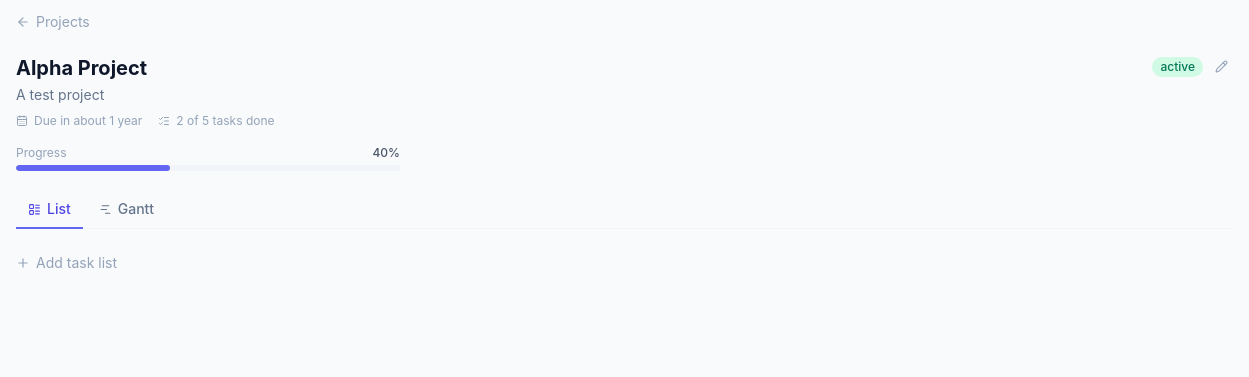
Test case: ProjectDetail › shows a name validation error when saving with an empty name
Click the button titled "Edit project".
click(1222, 66)  # box [1211,56,1232,77]
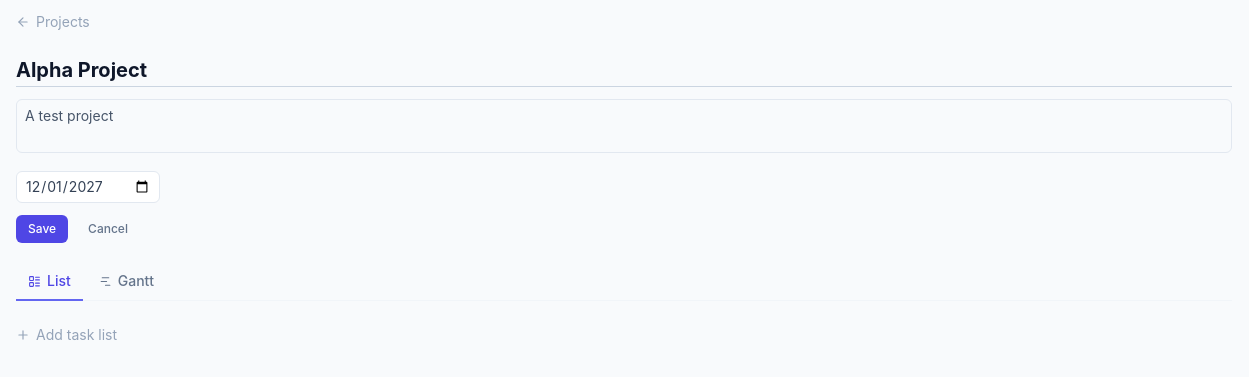
Clear the field showing "Alpha Project" at x=624, y=72, box [16,56,1232,87]
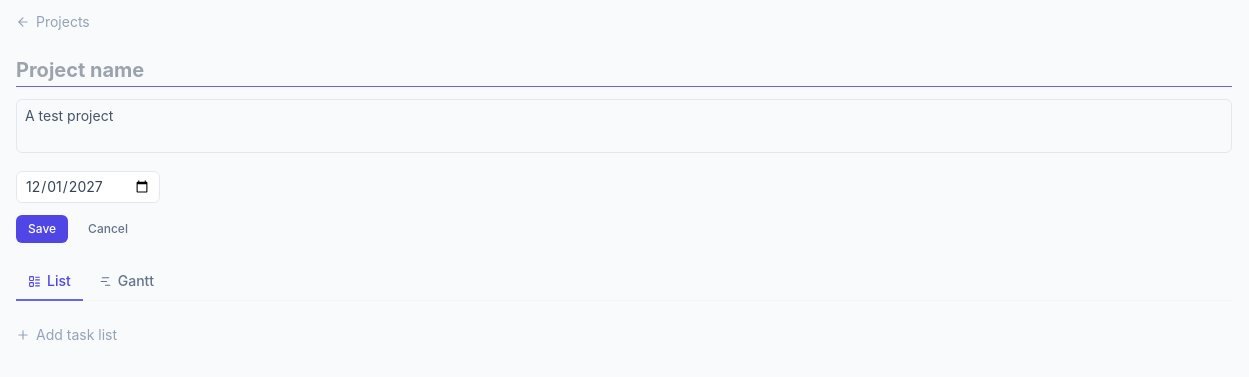
Click the button "Save".
click(42, 229)  # box [16,215,68,243]
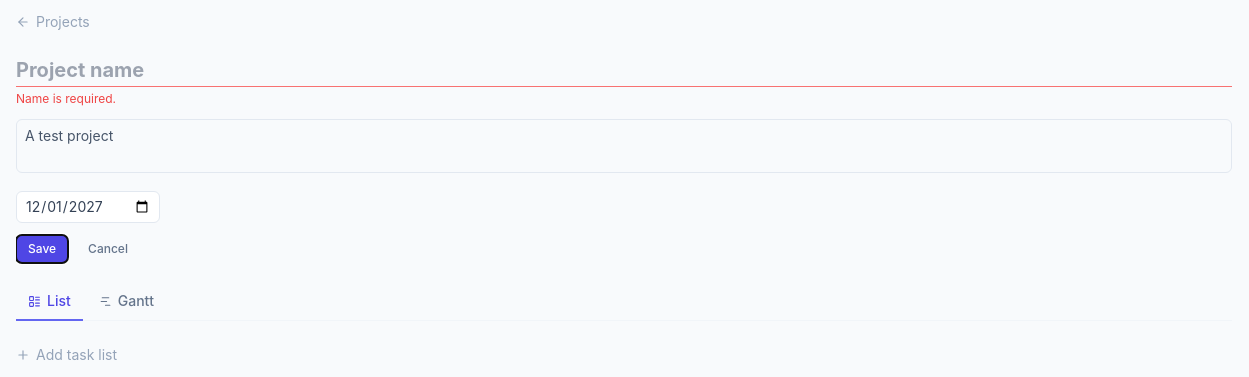
Now the text "Name is required." is shown, box [16,91,116,106]
